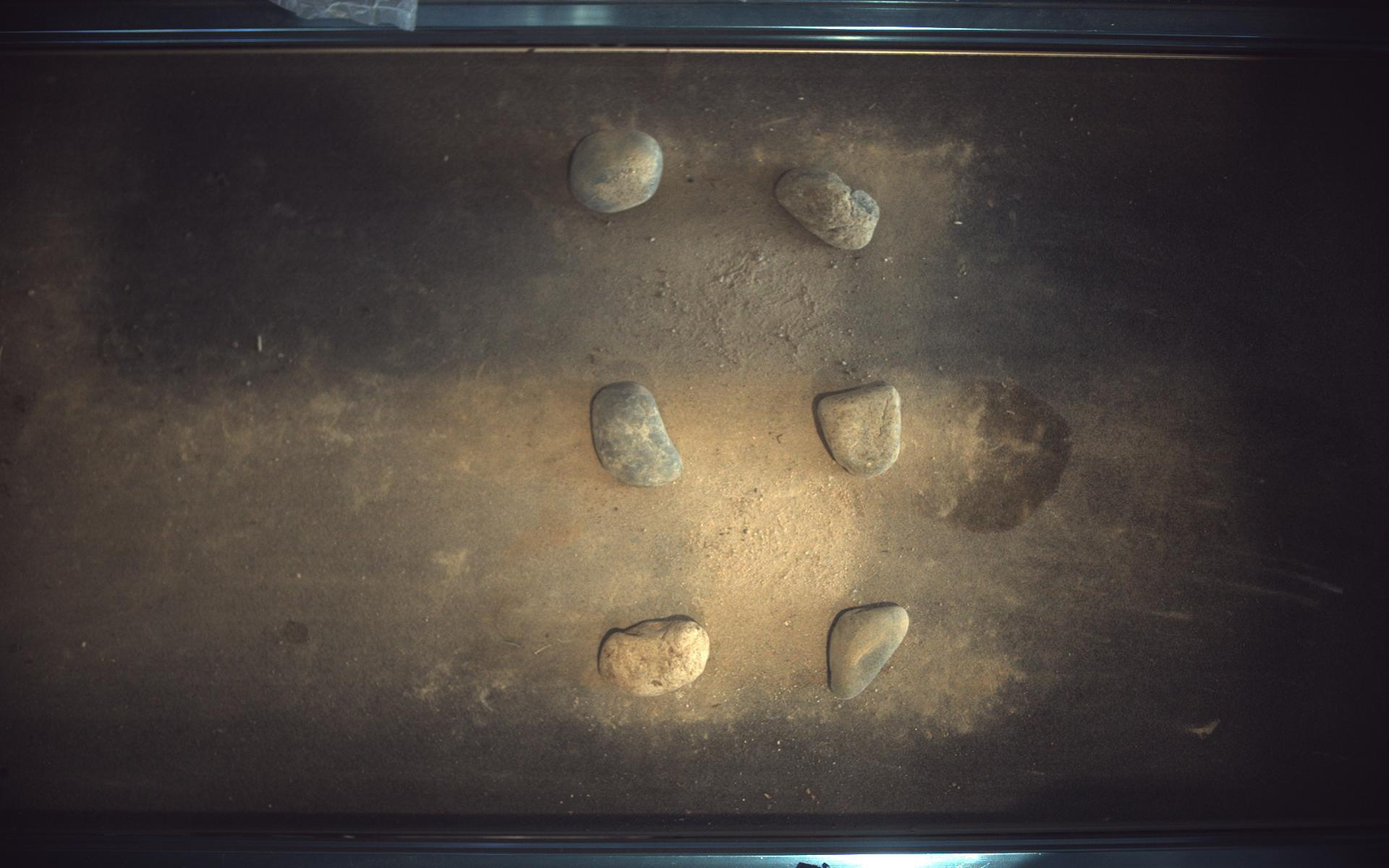stone: (592, 382, 684, 487), (598, 616, 710, 697), (777, 166, 882, 250), (569, 128, 664, 213), (828, 603, 911, 700), (818, 383, 902, 476)
